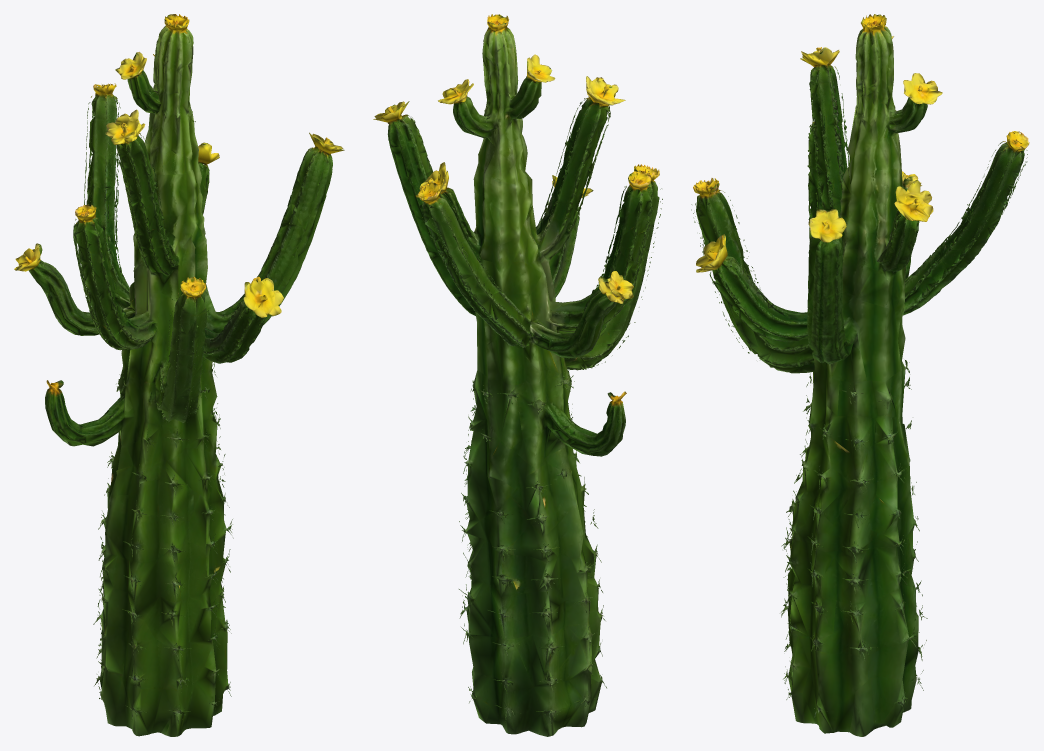
Rendered from cactus.glb.
The picture shows the model from 3 angles, left to right: view 1: azimuth 30°, elevation 25°; view 2: azimuth 150°, elevation 25°; view 3: azimuth 270°, elevation 25°; orthographic projection. The views are drawn at different scales.
Bounding box in the file's own units: 0.8893 × 2 × 0.8686.
Materials: 1 (1 with a texture image).
